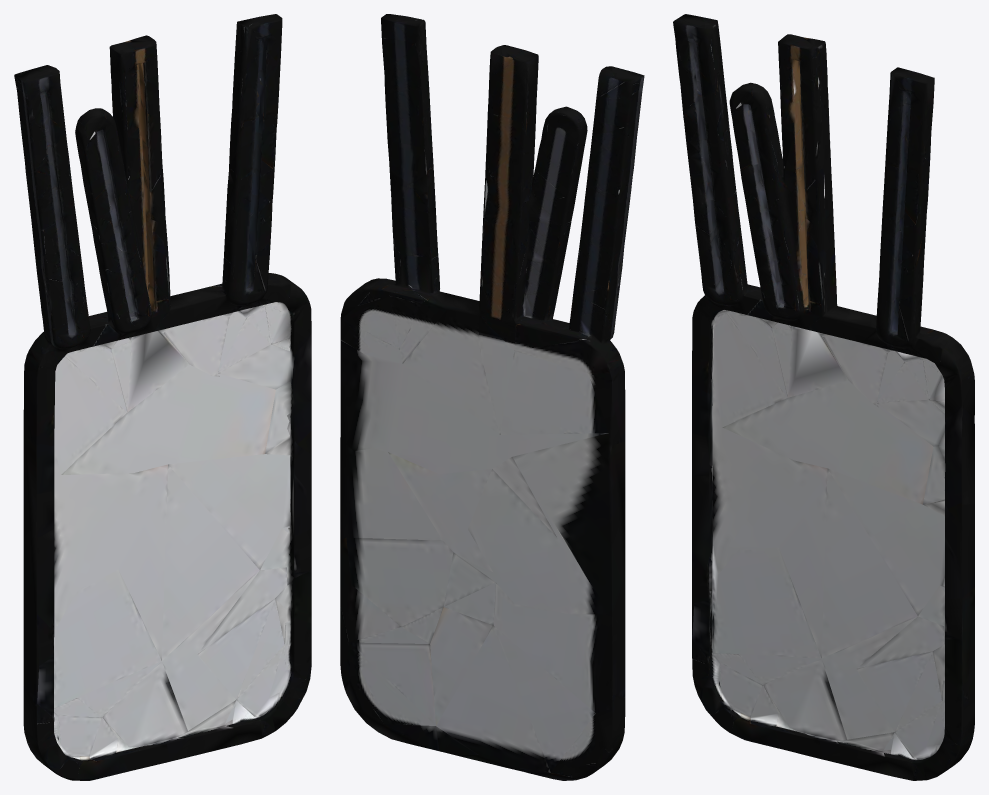
Rendered from pens.glb.
The picture shows the model from 3 angles, left to right: view 1: azimuth 30°, elevation 25°; view 2: azimuth 150°, elevation 25°; view 3: azimuth 330°, elevation 25°; orthographic projection.
Bounding box in the file's own units: 0.8066 × 1.9 × 0.0835.
Materials: 1 (1 with a texture image).
